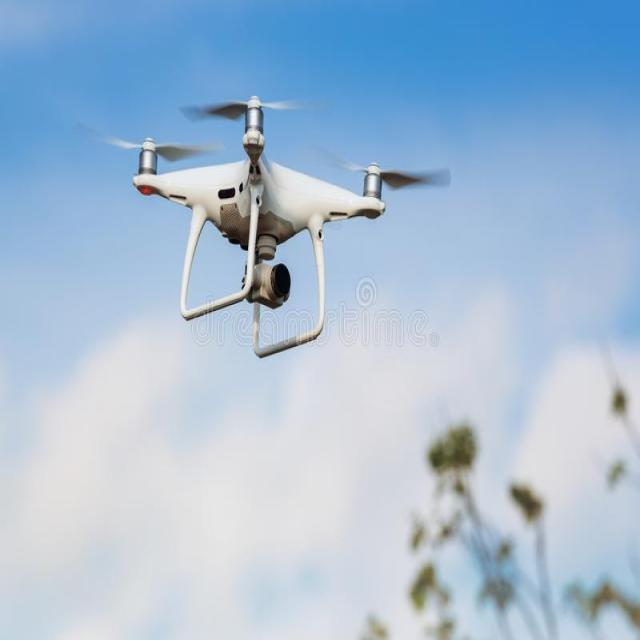drone: (102, 75, 466, 260)
